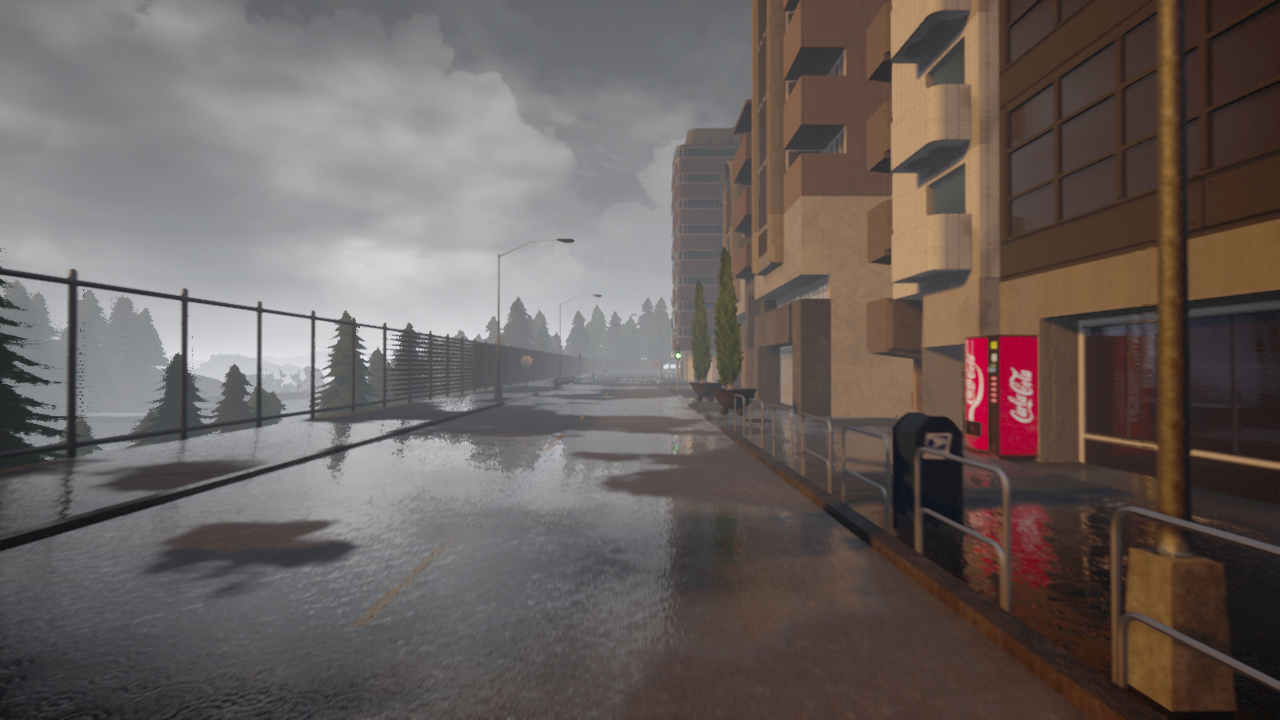green: (674, 344, 681, 359)
